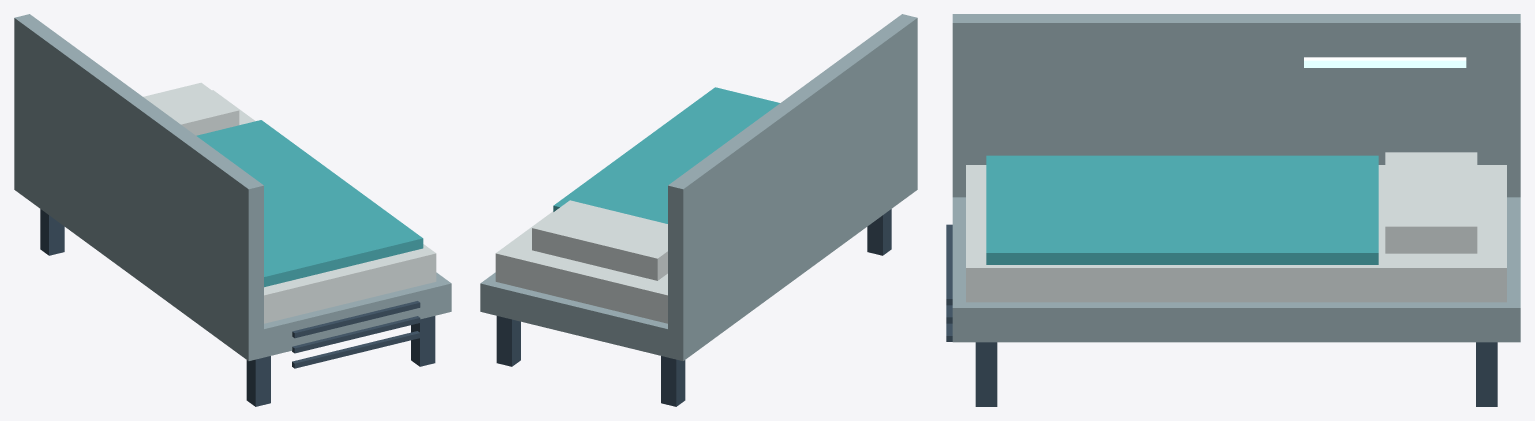
Rendered from orbital-field-station-crew-sleeping-berth__153.glb.
The picture shows the model from 3 angles, left to right: view 1: azimuth 30°, elevation 25°; view 2: azimuth 150°, elevation 25°; view 3: azimuth 270°, elevation 25°; orthographic projection. The views are drawn at different scales.
Visible parts, largest first — view 1: metal, accent, shell, dark; view 2: metal, shell, accent, dark; view 3: metal, accent, shell, dark, light.
Part boxes in pixels (x1,y1,x2,y2): metal: [14, 14, 451, 360]; accent: [196, 120, 423, 287]; shell: [143, 82, 436, 323]; dark: [40, 209, 435, 406]; metal: [480, 14, 917, 360]; shell: [495, 200, 667, 323]; accent: [553, 87, 779, 223]; dark: [496, 209, 891, 406]; metal: [952, 14, 1520, 342]; accent: [986, 155, 1378, 264]; shell: [966, 152, 1506, 302]; dark: [946, 224, 1497, 406]; light: [1304, 57, 1466, 67].
Bounding box in the file's own units: 1.05 × 1.13 × 2.12.
